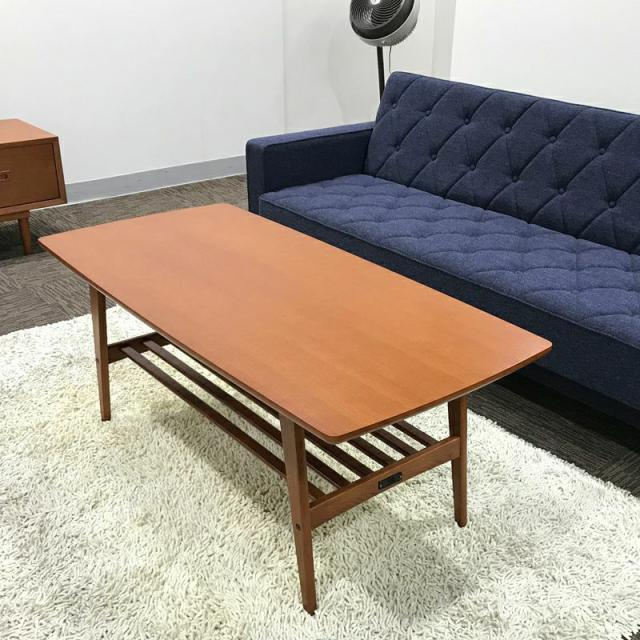vintage desk: (36, 202, 556, 612)
vintage sofa: (246, 71, 640, 413)
